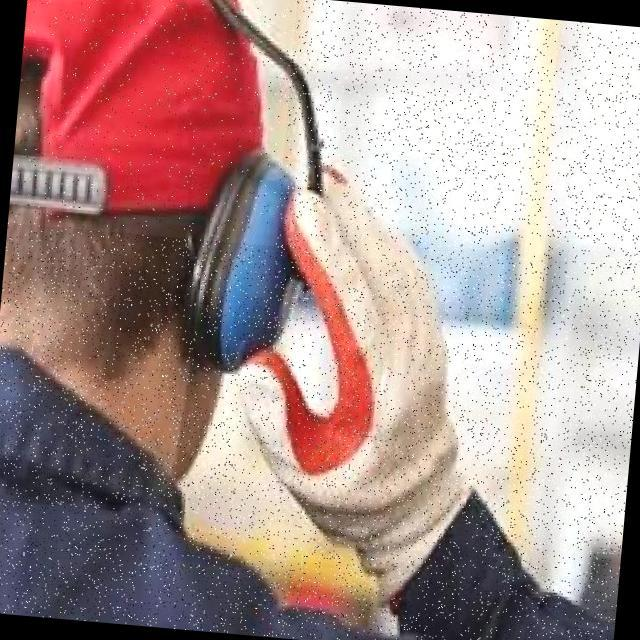Gloves: (224, 145, 508, 619)
Helmet: (7, 0, 297, 245)
